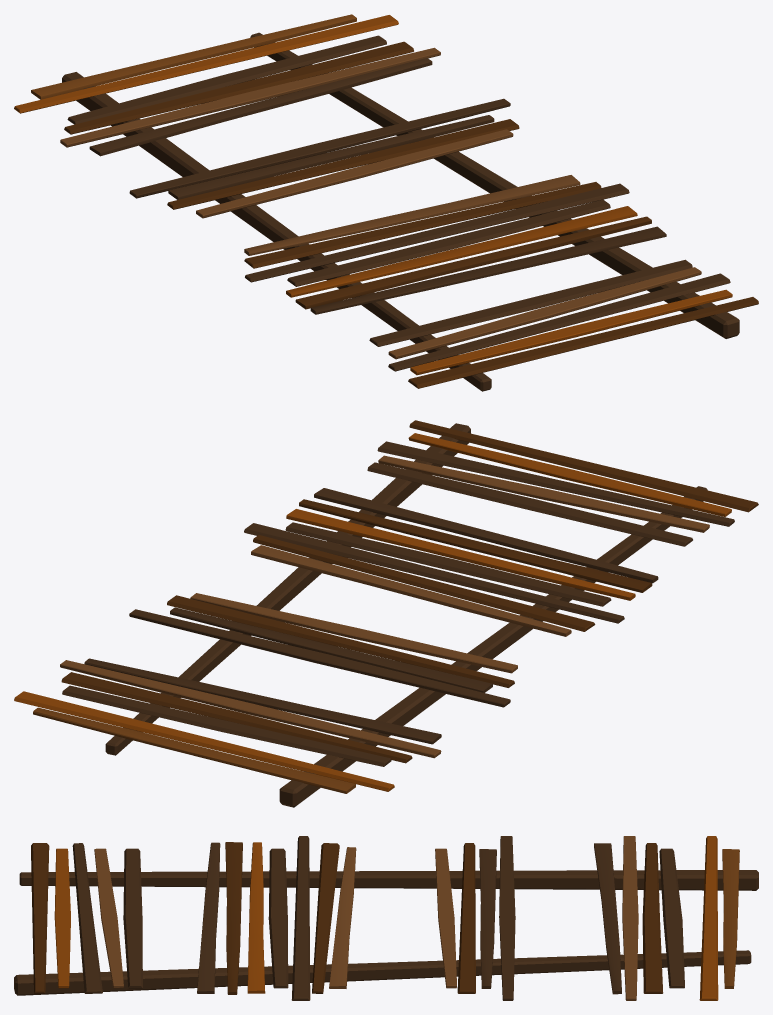
File: Bridge.FBX
The picture shows the model from 3 angles, top to bottom: view 1: azimuth 30°, elevation 25°; view 2: azimuth 150°, elevation 25°; view 3: azimuth 270°, elevation 25°; orthographic projection. The views are drawn at different scales.
Parts seen in each view (by area): view 1: Bridge; view 2: Bridge; view 3: Bridge.
Boxes of the visible parts, <box> form: Bridge: <box>14,14,758,391</box>; Bridge: <box>14,420,758,807</box>; Bridge: <box>14,836,758,1000</box>.
Size of the model in its own units: 548 by 28.98 by 1063.
